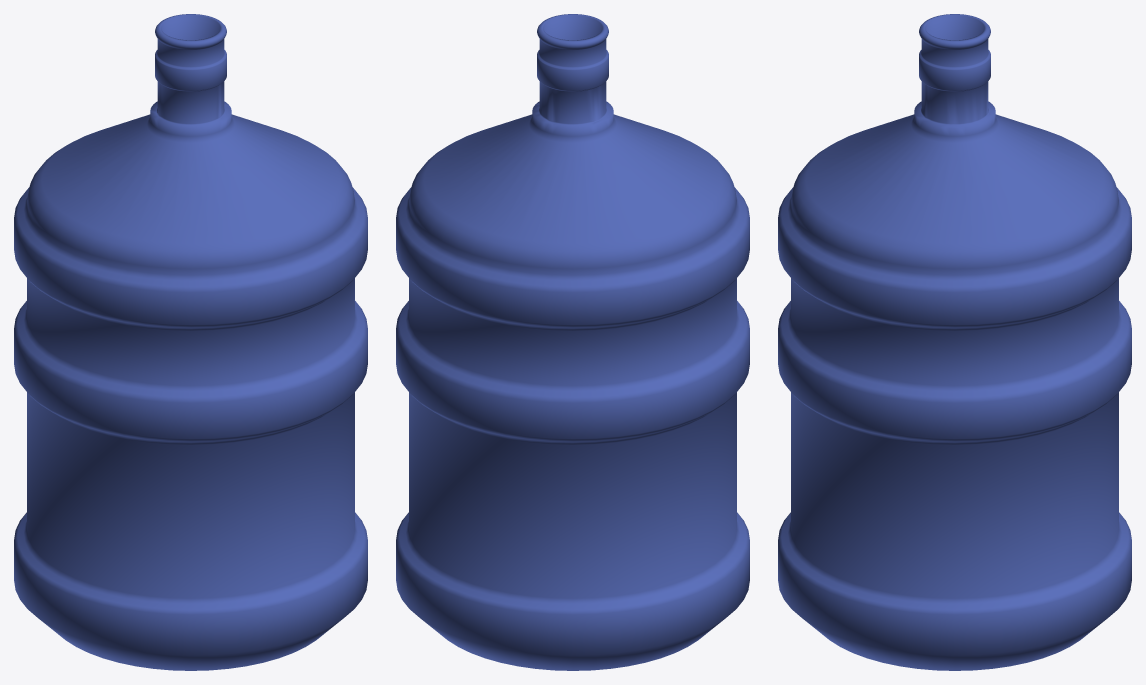
The picture shows the model from 3 angles, left to right: view 1: azimuth 30°, elevation 25°; view 2: azimuth 150°, elevation 25°; view 3: azimuth 270°, elevation 25°; orthographic projection.
Parts seen in each view (by area): view 1: mesh1_mesh1-geometry; view 2: mesh1_mesh1-geometry; view 3: mesh1_mesh1-geometry.
Boxes of the visible parts, <box> form: mesh1_mesh1-geometry: <box>14,14,367,670</box>; mesh1_mesh1-geometry: <box>396,14,749,670</box>; mesh1_mesh1-geometry: <box>778,14,1131,670</box>.
Bounding box in the file's own units: 0.4346 × 0.7888 × 0.4346.
